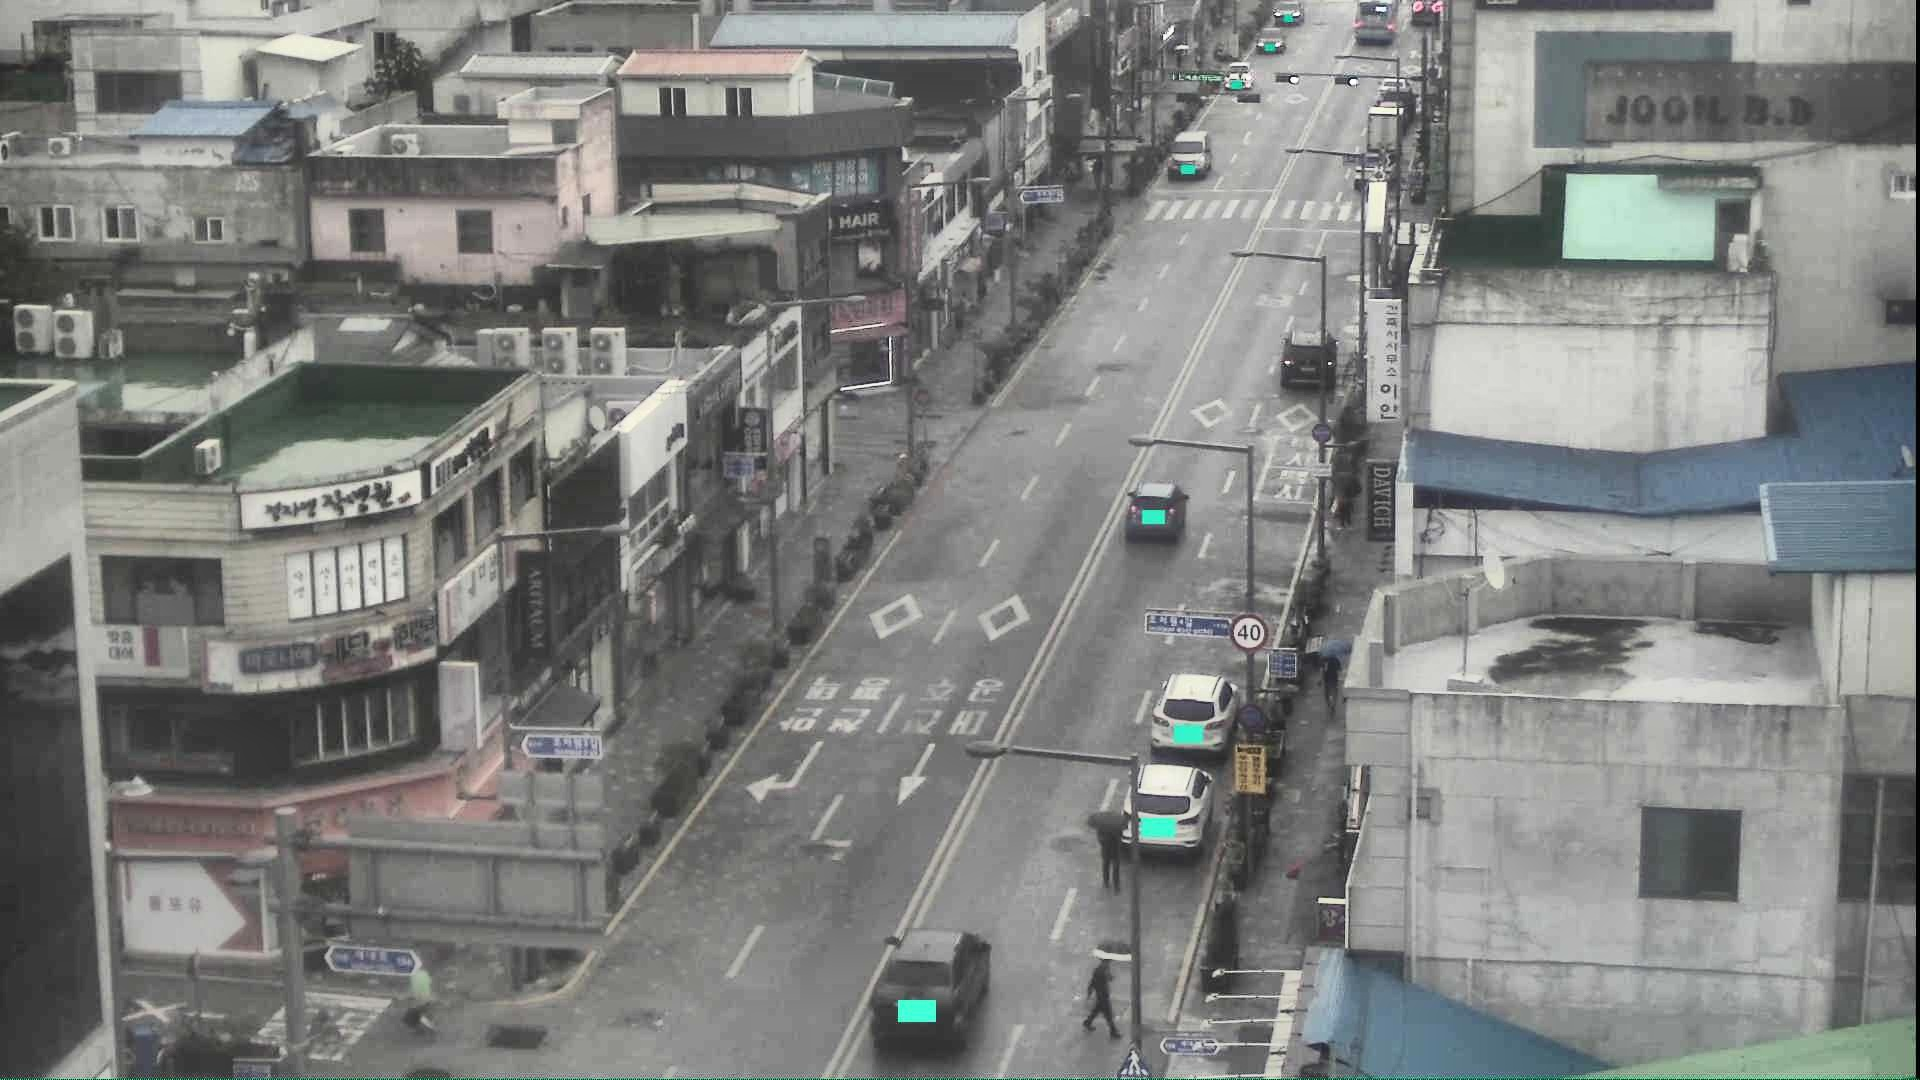jaywalk: (406, 969, 436, 1034)
um_jaywalk: (1081, 942, 1134, 1040), (1087, 808, 1127, 897)
um_sidewalk: (1317, 634, 1354, 725), (1331, 467, 1364, 534)
